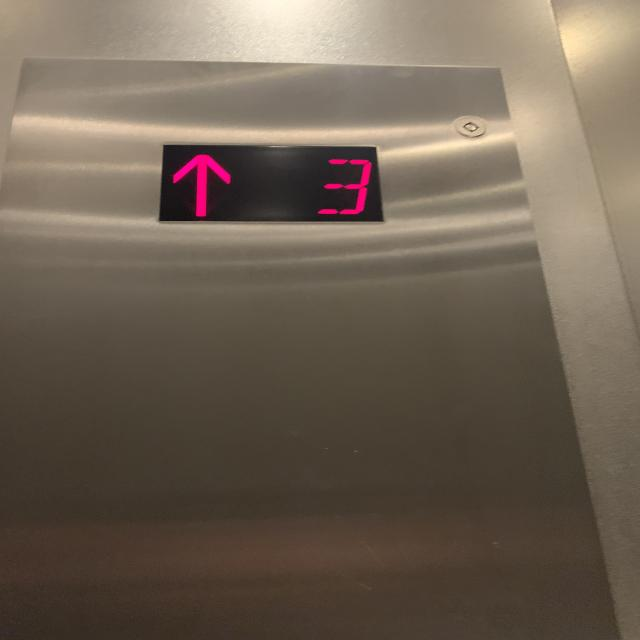box: (153, 136, 390, 228)
